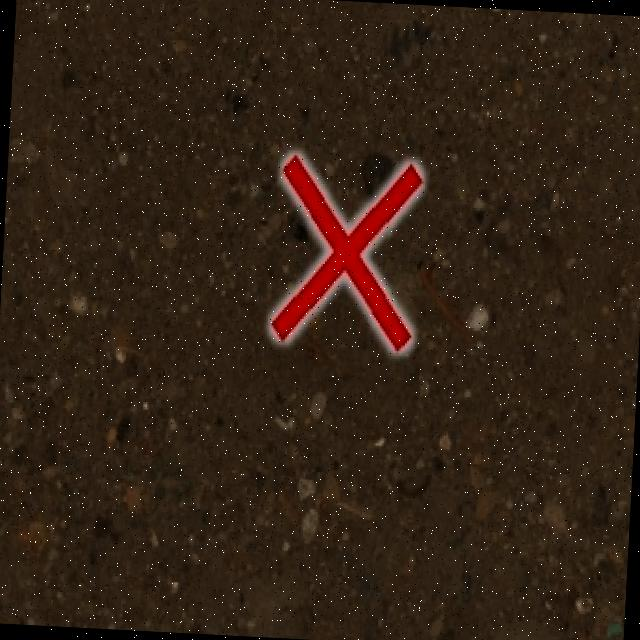x_marker: (269, 153, 422, 350)
